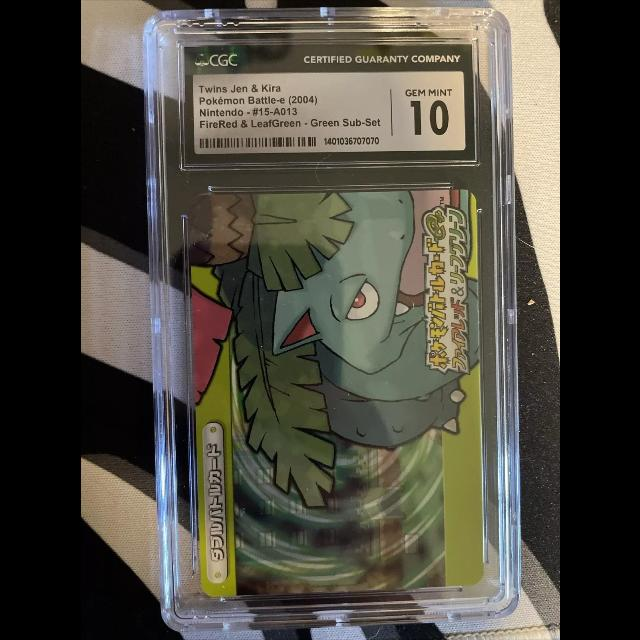card: (187, 189, 484, 597)
cgc_label: (183, 44, 475, 165)
cgc_slab: (144, 8, 521, 633)
